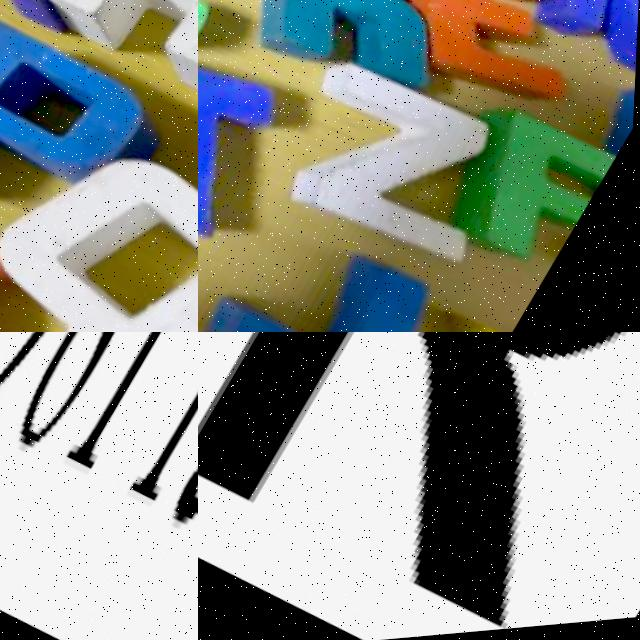1: (59, 332, 198, 488), (118, 332, 198, 526)
8: (4, 332, 198, 465)
9: (0, 332, 198, 438)
E: (375, 0, 620, 142)
F: (438, 104, 623, 299)
H: (33, 0, 198, 123)
I: (0, 131, 148, 332)
J: (198, 193, 478, 332)
K: (207, 0, 488, 142)
N: (524, 0, 640, 98)
P: (0, 0, 170, 287)
Q: (0, 101, 198, 332)
R: (198, 332, 640, 640)
T: (198, 2, 306, 270)
Z: (274, 46, 543, 299)
